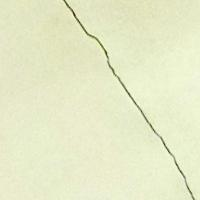crack: (53, 0, 199, 199)
